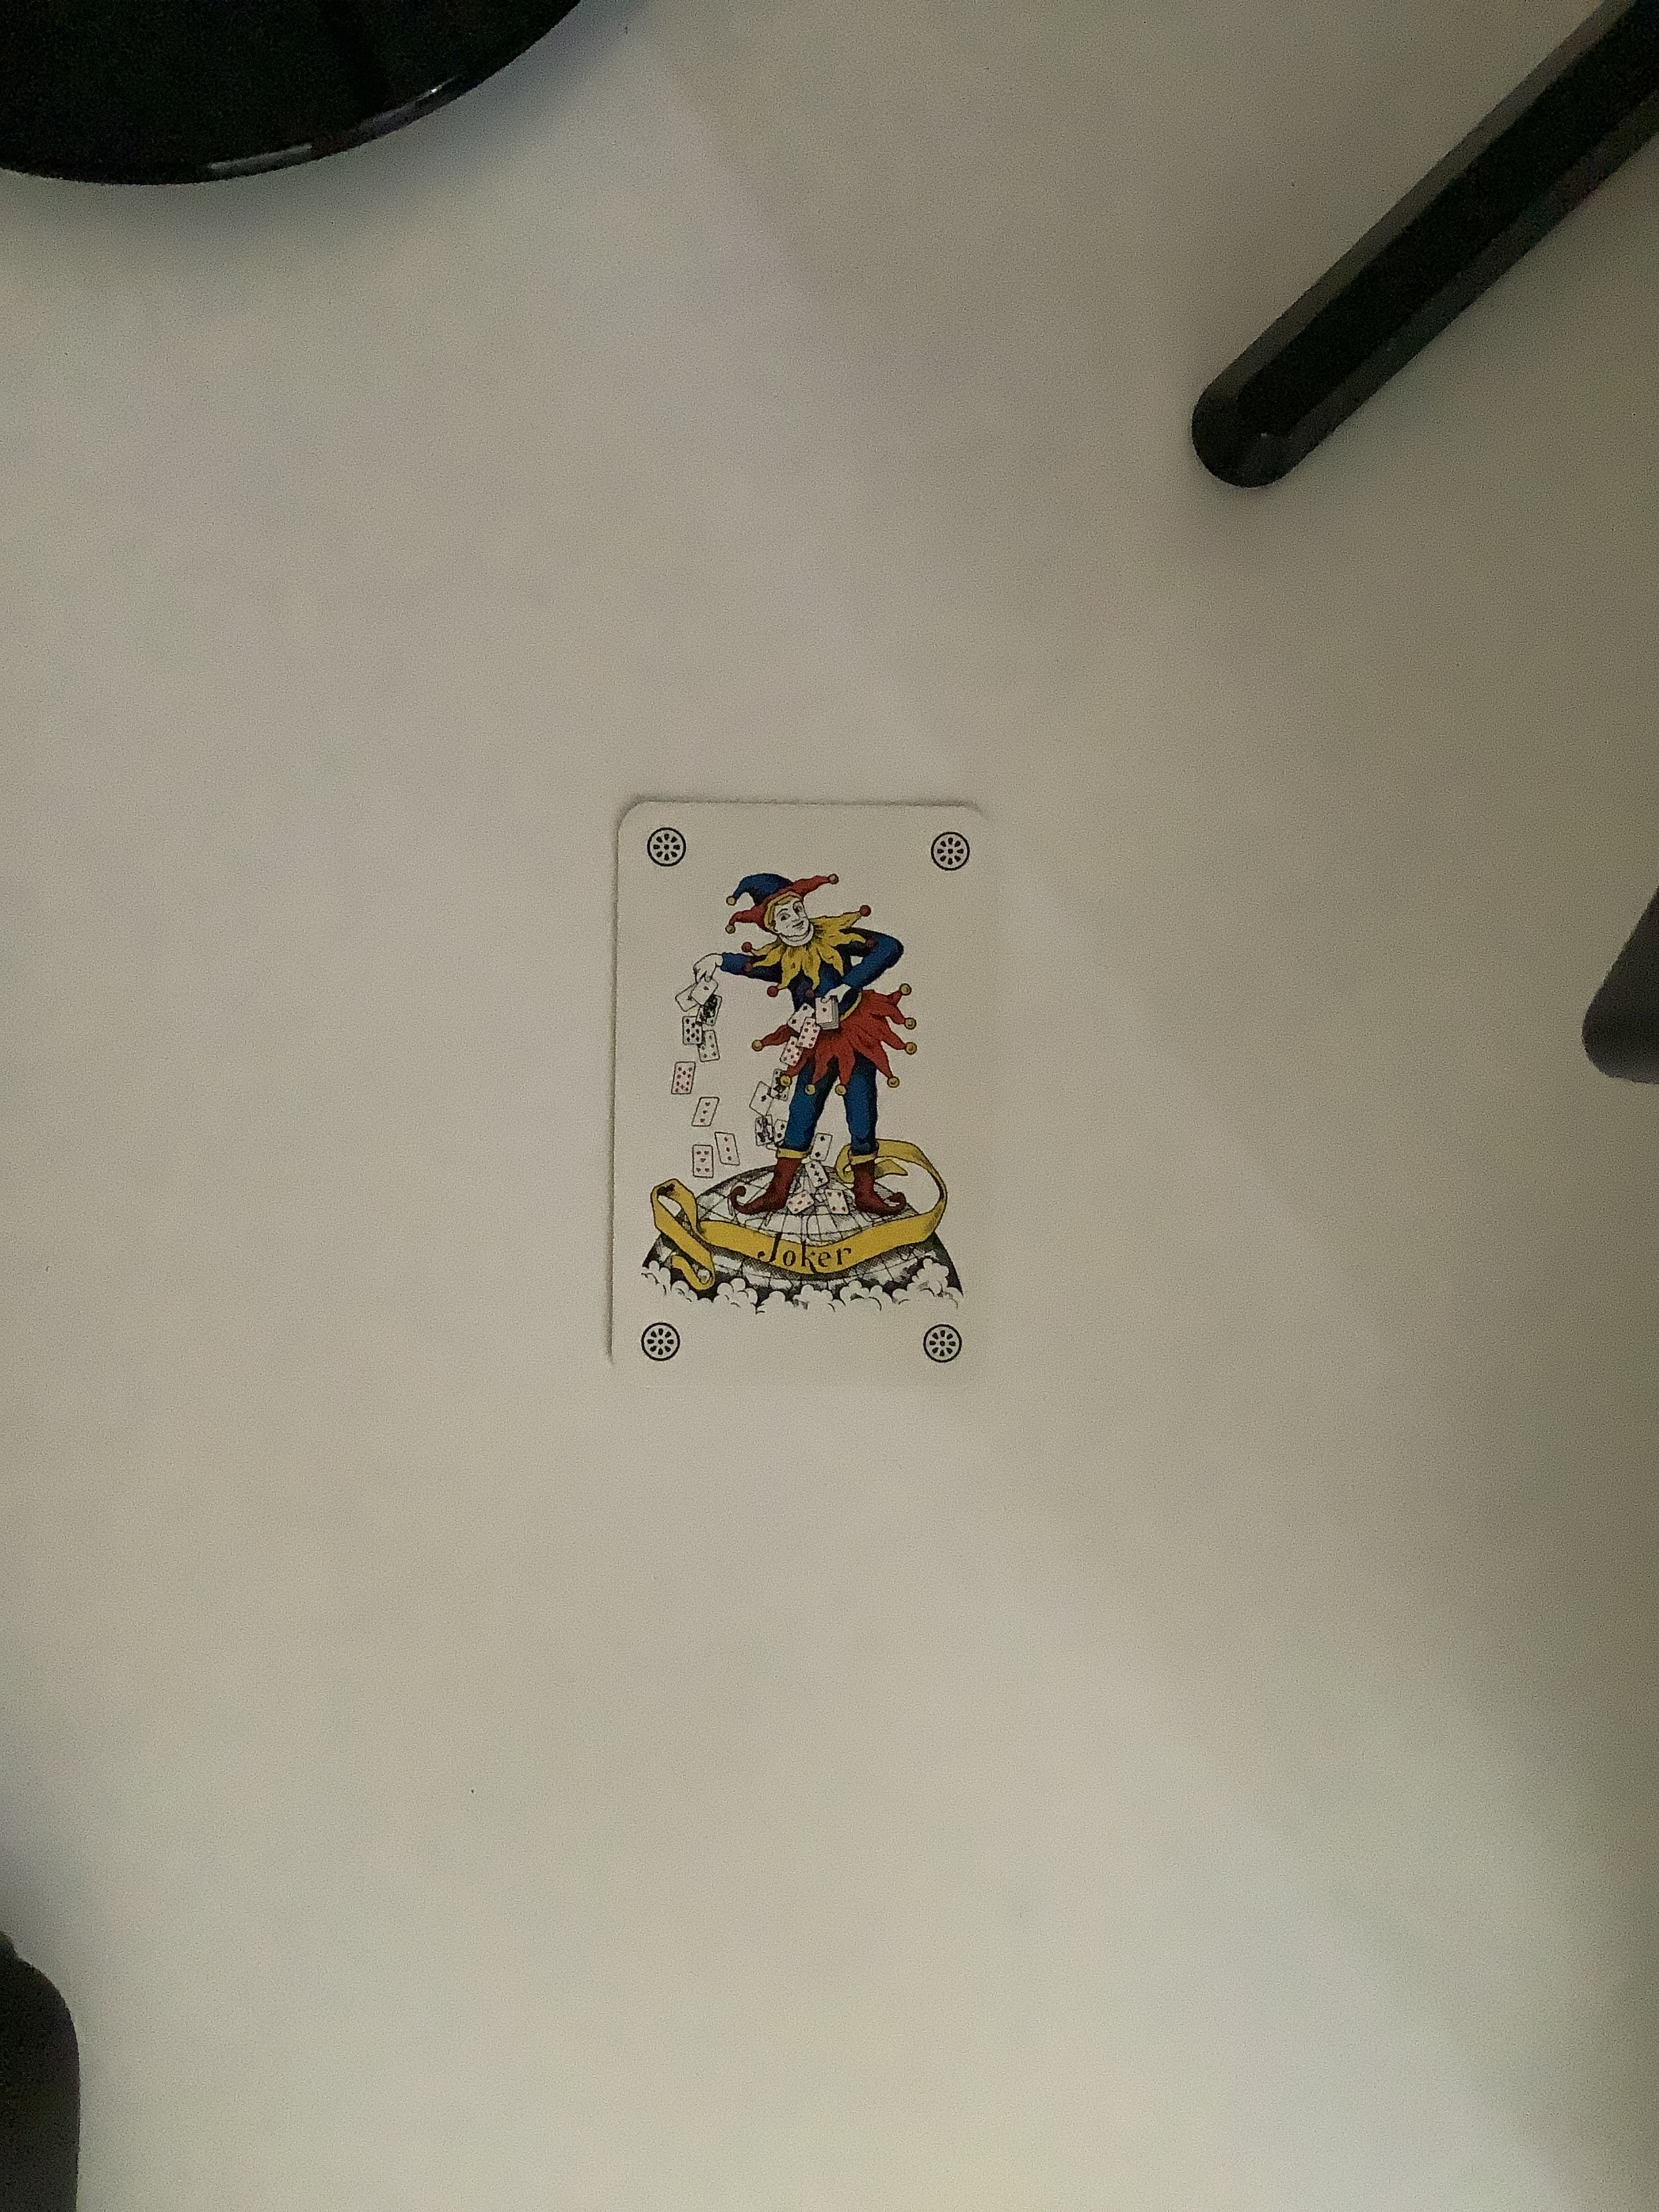🃏: (586, 775, 1030, 1407)
